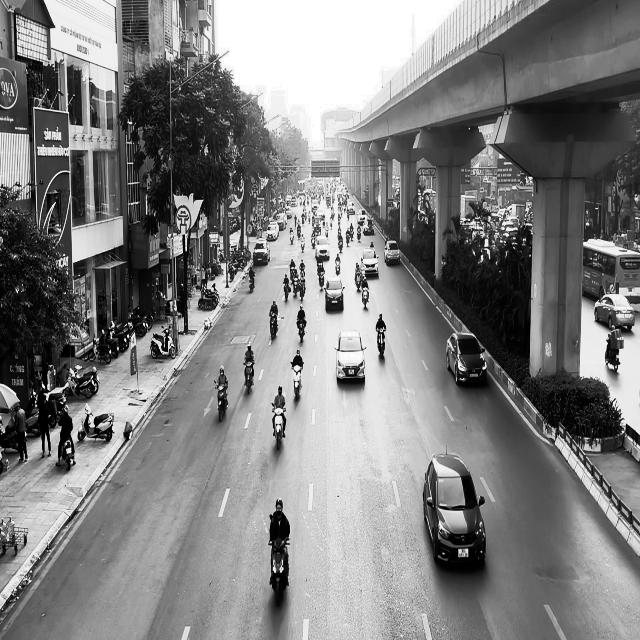bus: (582, 237, 640, 304)
car: (422, 448, 486, 566), (446, 331, 487, 385), (334, 329, 367, 382), (594, 293, 634, 330), (324, 276, 345, 311), (360, 248, 379, 276), (384, 239, 400, 265), (315, 235, 330, 260)
motorbike: (268, 538, 290, 606), (78, 402, 114, 441), (150, 326, 176, 358), (271, 402, 286, 450), (214, 379, 228, 422), (604, 337, 620, 371), (60, 434, 75, 470), (290, 362, 303, 401), (243, 361, 254, 393), (376, 327, 386, 358), (296, 316, 306, 342), (269, 313, 279, 339), (361, 284, 369, 308), (248, 272, 254, 292)
